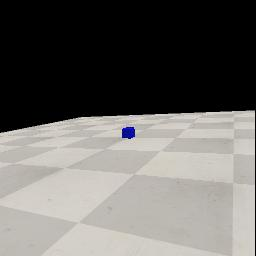box: (122, 127, 135, 139)
